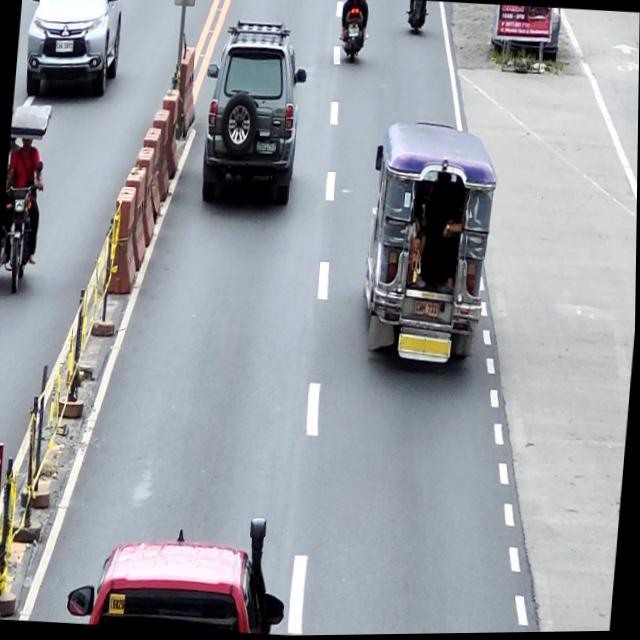Car: (66, 532, 291, 638), (197, 20, 311, 208), (22, 0, 125, 101)
Jeep: (359, 117, 502, 369)
License-Plate: (415, 299, 440, 319), (256, 140, 276, 154), (55, 39, 74, 53), (348, 27, 360, 37)
Tricycle: (0, 102, 53, 296), (339, 0, 366, 63), (407, 1, 425, 33)
